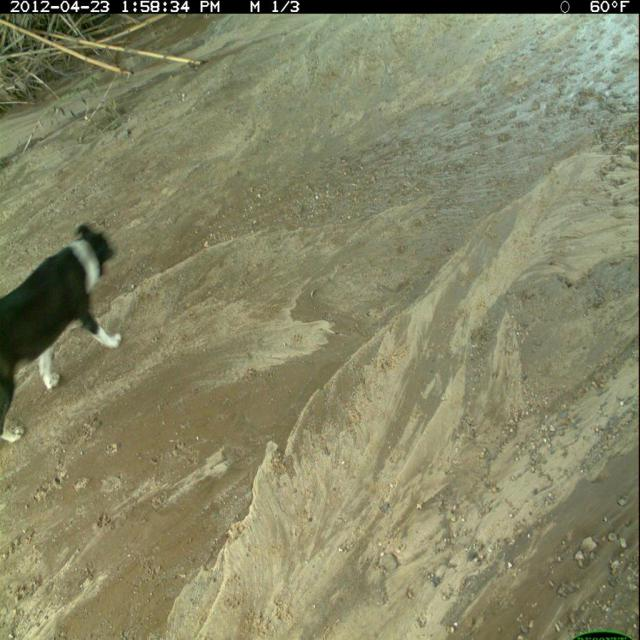dog: (1, 222, 125, 445)
